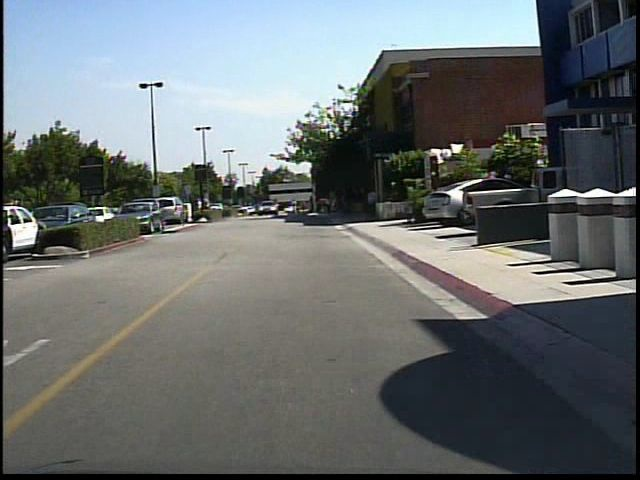person: (193, 191, 209, 219), (289, 195, 304, 222)
